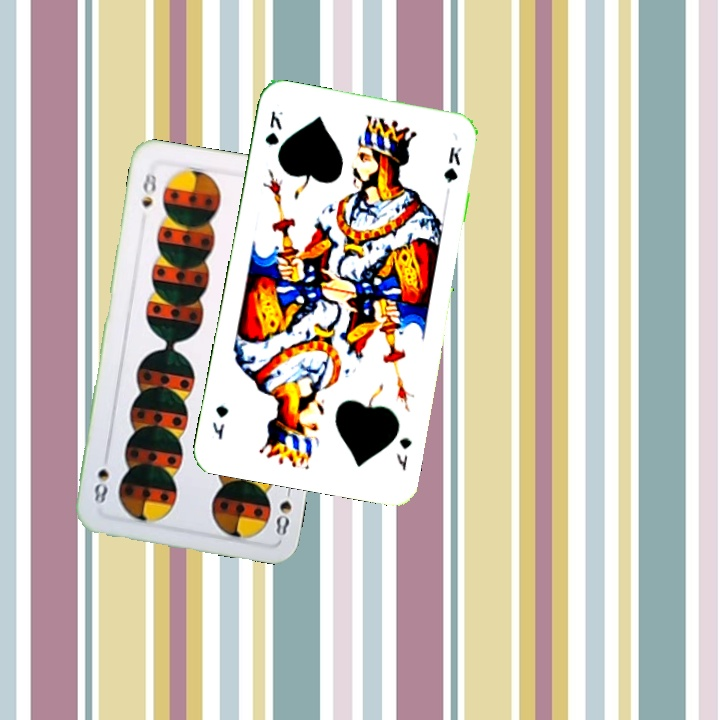GK: (261, 107, 286, 148), (392, 433, 415, 473)
S8: (272, 480, 294, 538), (137, 168, 160, 210)
